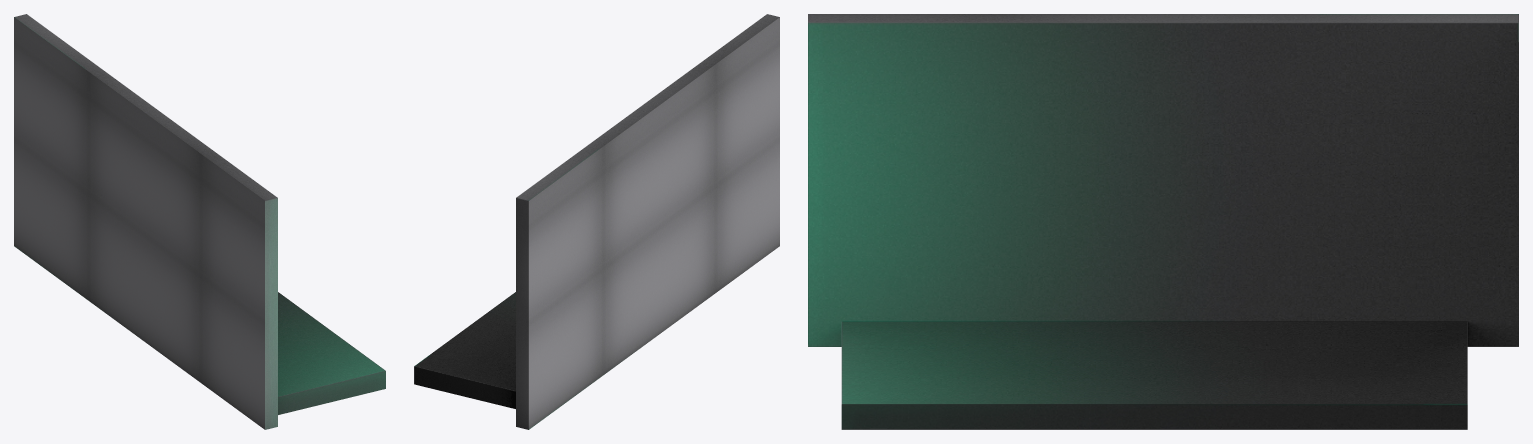
File: stage.obj
The picture shows the model from 3 angles, left to right: view 1: azimuth 30°, elevation 25°; view 2: azimuth 150°, elevation 25°; view 3: azimuth 270°, elevation 25°; orthographic projection. The views are drawn at different scales.
Visible parts, largest first — view 1: Box033; view 2: Box033; view 3: Box033.
Boxes of the visible parts, left/top/right/bottom form: Box033: left=14, top=14, right=385, bottom=429; Box033: left=414, top=14, right=779, bottom=429; Box033: left=808, top=14, right=1518, bottom=429.
Bounding box in the file's own units: 6.85 × 11.31 × 22.45.
Materials: 1 (1 with a texture image).
